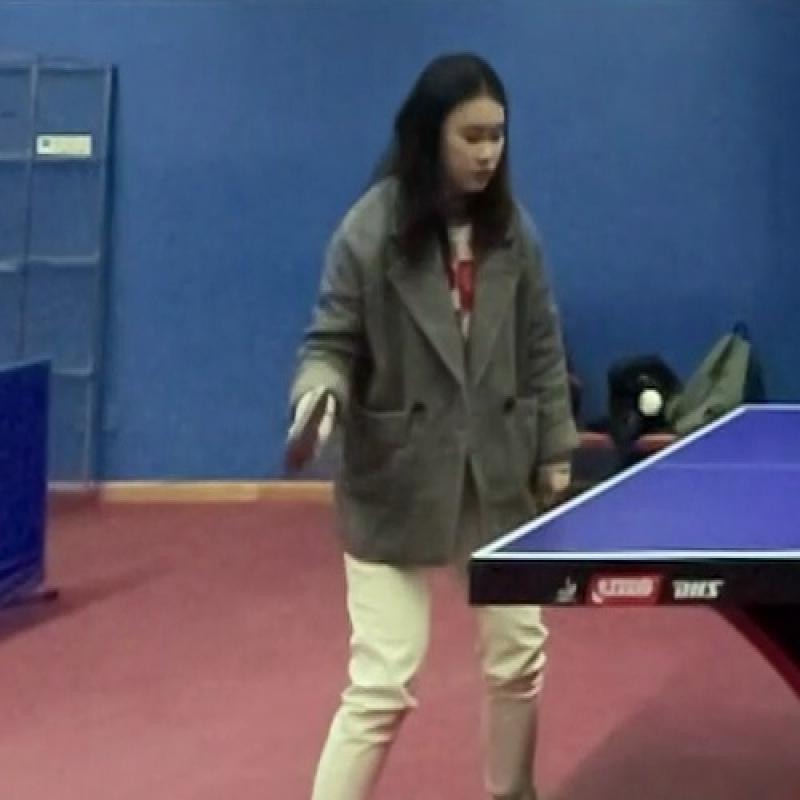bats: (264, 371, 352, 476)
